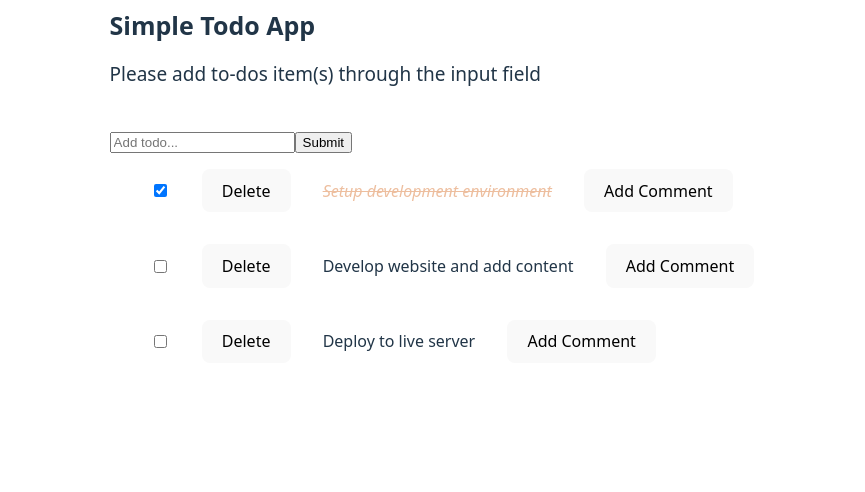
TodoContainer › adds a comment on a todo item
Click the button "Add Comment" next to "Setup development environment" at {"x": 658, "y": 191}, box [584,169,733,212]
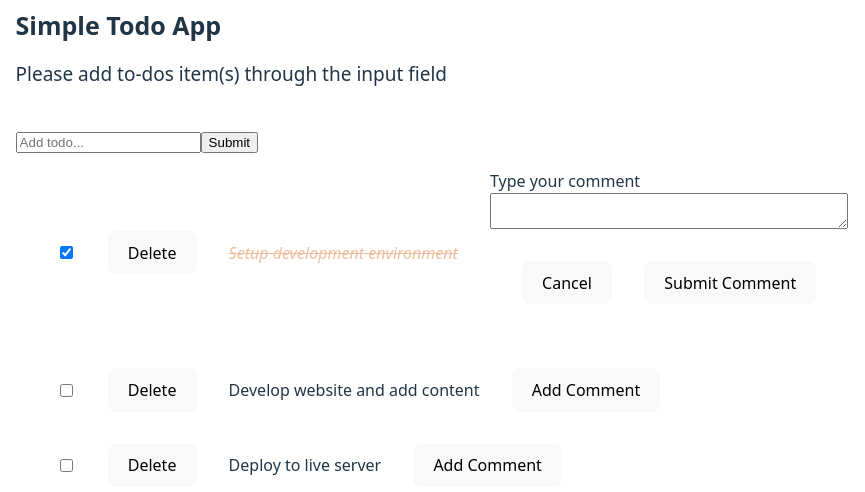
Type "Hello world" into the text box labelled "Type your comment" at {"x": 669, "y": 211}, box [490,193,848,229]
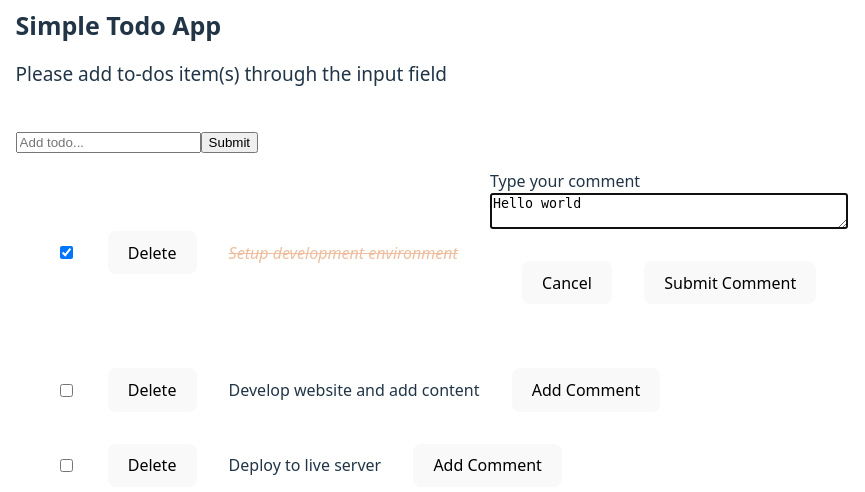
Click the button "Submit Comment" at {"x": 730, "y": 283}, box [644,261,816,304]
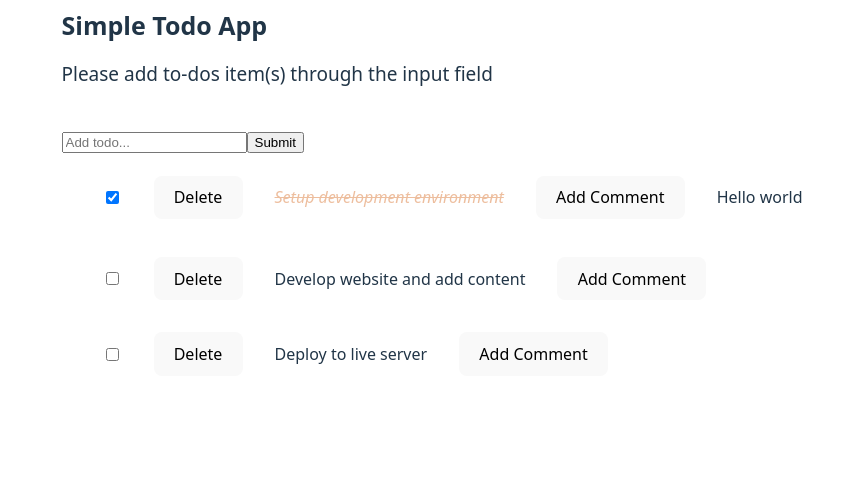
Expected: the text "Hello world" is shown, [717,185,802,209]
